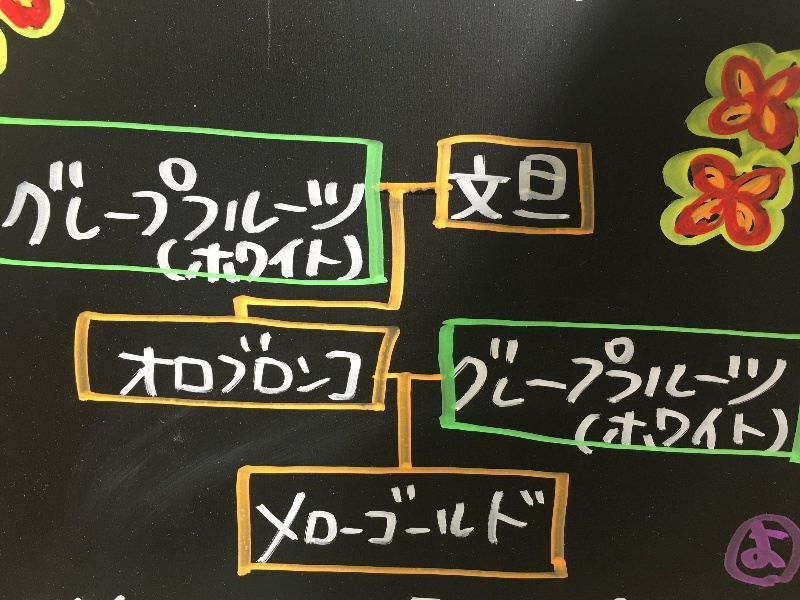text: (17, 153, 32, 253), (33, 153, 48, 253), (49, 153, 64, 253), (65, 153, 80, 253), (81, 153, 96, 253), (97, 153, 112, 253), (113, 153, 128, 253), (129, 153, 144, 253), (145, 153, 160, 253), (161, 153, 176, 253), (177, 153, 192, 253), (193, 153, 208, 253), (209, 153, 224, 253), (225, 153, 240, 253), (241, 153, 256, 253), (257, 153, 272, 253), (273, 153, 288, 253), (289, 153, 304, 253), (305, 153, 320, 253), (321, 153, 336, 253), (337, 153, 352, 253), (2, 153, 16, 253), (353, 153, 366, 253), (465, 330, 480, 415), (481, 330, 496, 415), (497, 330, 512, 415), (513, 330, 528, 415), (529, 330, 544, 415), (545, 330, 560, 415), (561, 330, 576, 415), (577, 330, 592, 415), (593, 330, 608, 415), (609, 330, 624, 415), (625, 330, 640, 415), (641, 330, 656, 415), (657, 330, 672, 415), (673, 330, 688, 415), (689, 330, 704, 415), (705, 330, 720, 415), (721, 330, 736, 415), (737, 330, 752, 415), (753, 330, 768, 415), (769, 330, 784, 415), (257, 483, 272, 567), (273, 483, 288, 567), (289, 483, 304, 567), (305, 483, 320, 567), (321, 483, 336, 567), (337, 483, 352, 567), (353, 483, 368, 567), (369, 483, 384, 567), (385, 483, 400, 567), (401, 483, 416, 567), (417, 483, 432, 567), (433, 483, 448, 567), (449, 483, 464, 567), (465, 483, 480, 567), (481, 483, 496, 567), (497, 483, 512, 567), (513, 483, 528, 567), (529, 483, 544, 567), (450, 330, 464, 415), (129, 331, 144, 404), (145, 331, 160, 404), (161, 331, 176, 404), (177, 331, 192, 404), (193, 331, 208, 404), (209, 331, 224, 404), (225, 331, 240, 404), (241, 331, 256, 404), (257, 331, 272, 404), (273, 331, 288, 404), (289, 331, 304, 404), (305, 331, 320, 404), (321, 331, 336, 404), (337, 331, 352, 404), (449, 151, 464, 223), (465, 151, 480, 223), (481, 151, 496, 223), (497, 151, 512, 223), (513, 151, 528, 223), (529, 151, 544, 223), (545, 151, 560, 223), (561, 151, 574, 223), (116, 331, 128, 404), (161, 232, 176, 287), (177, 232, 192, 287), (193, 232, 208, 287), (209, 232, 224, 287), (225, 232, 240, 287), (241, 232, 256, 287), (257, 232, 272, 287), (273, 232, 288, 287), (289, 232, 304, 287), (305, 232, 320, 287), (321, 232, 336, 287), (337, 232, 352, 287), (577, 403, 592, 458), (593, 403, 608, 458), (609, 403, 624, 458), (625, 403, 640, 458), (641, 403, 656, 458), (657, 403, 672, 458), (673, 403, 688, 458), (689, 403, 704, 458), (705, 403, 720, 458), (721, 403, 736, 458), (737, 403, 752, 458), (753, 403, 768, 458), (769, 403, 784, 458), (753, 520, 768, 573), (769, 520, 784, 573), (353, 232, 367, 287), (353, 331, 362, 404), (149, 232, 160, 287), (566, 403, 576, 458), (785, 330, 791, 415), (785, 520, 793, 573), (545, 483, 548, 567), (785, 403, 789, 458), (445, 151, 448, 223), (254, 483, 256, 567), (750, 520, 752, 573)
